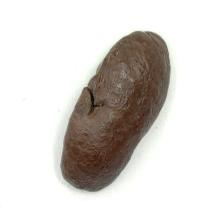NG: (75, 77, 104, 120)
